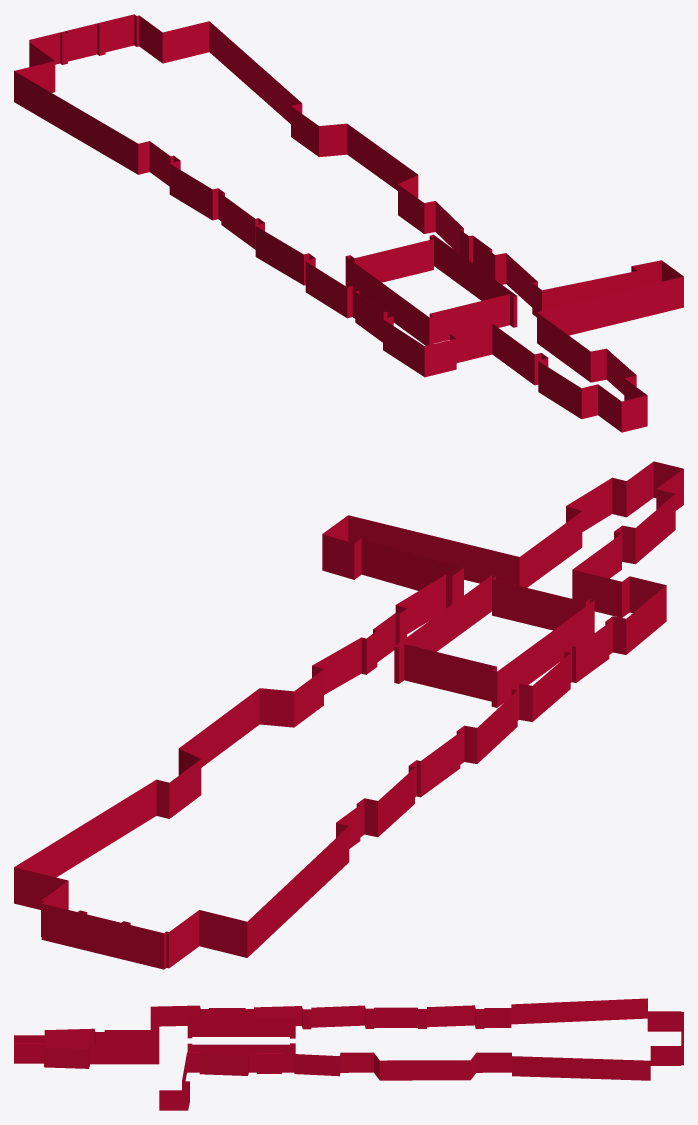
Rendered from balck_V1.fbx.
3 views of the same model, one above another, from view 1: azimuth 30°, elevation 25°; view 2: azimuth 150°, elevation 25°; view 3: azimuth 270°, elevation 25° (orthographic). The views are drawn at different scales.
Parts seen in each view (by area): view 1: Body31; view 2: Body31; view 3: Body31.
Boxes of the visible parts, <box> form: Body31: <box>14,14,683,432</box>; Body31: <box>14,461,683,969</box>; Body31: <box>14,998,683,1110</box>.
Size of the model in its own units: 2616 by 267 by 8052.
